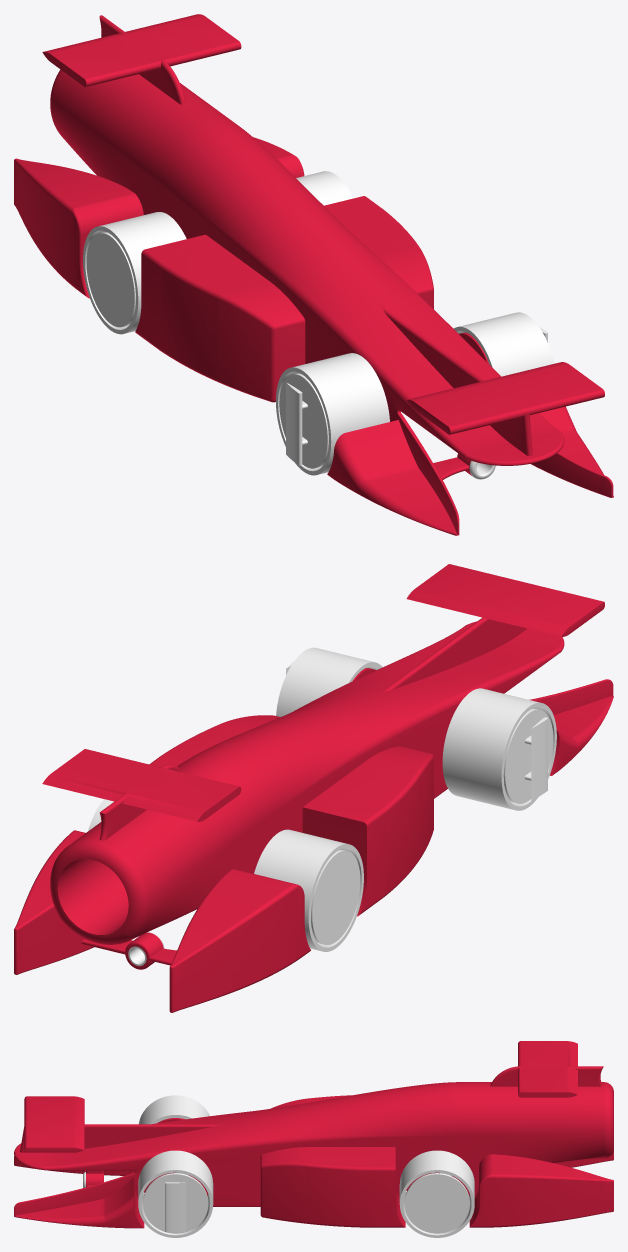
The picture shows the model from 3 angles, top to bottom: view 1: azimuth 30°, elevation 25°; view 2: azimuth 150°, elevation 25°; view 3: azimuth 270°, elevation 25°; orthographic projection. The views are drawn at different scales.
Visible parts, largest first — view 1: 10 P2.1 Assembly, 10 P2.1 Assembly.004, 10 P2.1 Assembly.001, 10 P2.1 Assembly.003, 10 P2.1 Assembly.002; view 2: 10 P2.1 Assembly, 10 P2.1 Assembly.004, 10 P2.1 Assembly.001, 10 P2.1 Assembly.003; view 3: 10 P2.1 Assembly, 10 P2.1 Assembly.003, 10 P2.1 Assembly.002, 10 P2.1 Assembly.004.
Boxes of the visible parts, x1,y1,x2,y2 form: 10 P2.1 Assembly: (14, 14, 613, 535); 10 P2.1 Assembly.004: (276, 353, 389, 475); 10 P2.1 Assembly.001: (83, 212, 186, 334); 10 P2.1 Assembly.003: (453, 312, 554, 376); 10 P2.1 Assembly.002: (296, 171, 353, 205); 10 P2.1 Assembly: (14, 564, 613, 1012); 10 P2.1 Assembly.004: (442, 688, 556, 810); 10 P2.1 Assembly.001: (254, 829, 363, 951); 10 P2.1 Assembly.003: (276, 647, 382, 716); 10 P2.1 Assembly: (14, 1041, 613, 1228); 10 P2.1 Assembly.003: (138, 1150, 213, 1237); 10 P2.1 Assembly.002: (399, 1150, 474, 1237); 10 P2.1 Assembly.004: (138, 1095, 209, 1124).
Size of the model in its own units: 12.61 by 9.55 by 38.75.
